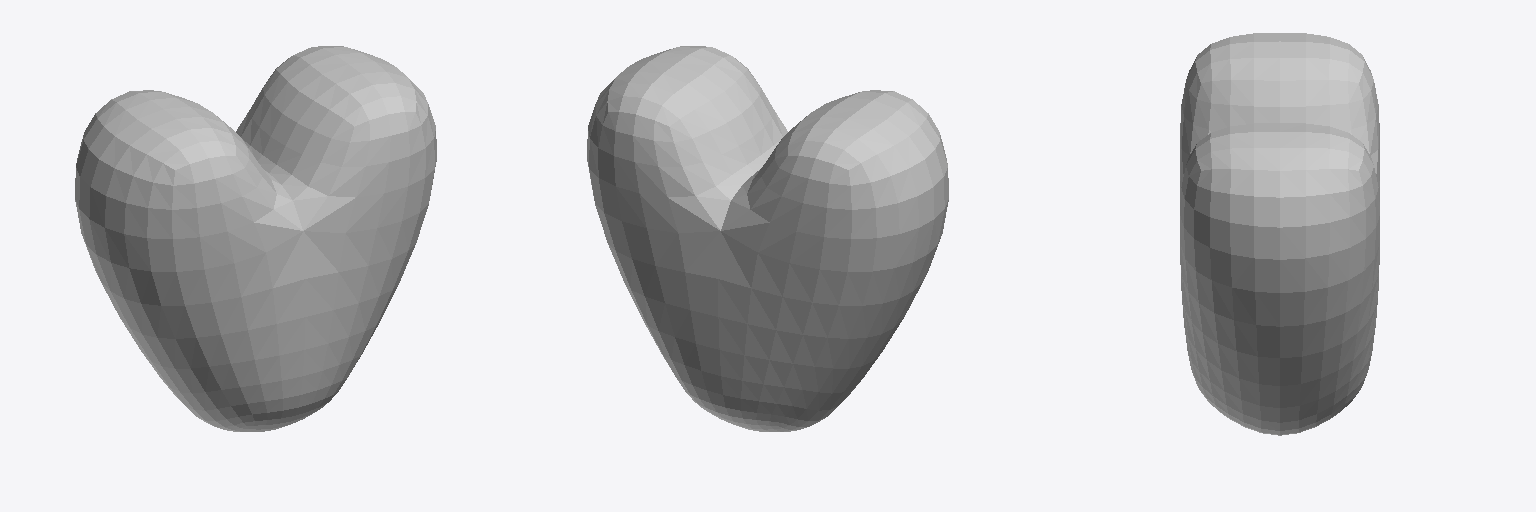
File: heart.obj
3 renders of one model, left to right at view 1: azimuth 30°, elevation 25°; view 2: azimuth 150°, elevation 25°; view 3: azimuth 270°, elevation 25°, orthographic.
Parts seen in each view (by area): view 1: heart_Cube.001; view 2: heart_Cube.001; view 3: heart_Cube.001.
Part boxes in pixels (x1,y1,x2,y2): heart_Cube.001: (75, 46, 436, 431); heart_Cube.001: (587, 46, 948, 431); heart_Cube.001: (1180, 33, 1379, 435).
Bounding box in the file's own units: 173 × 168 × 89.95.